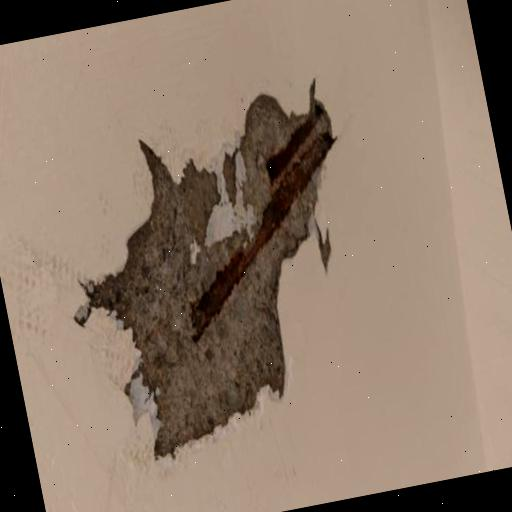spalling: (76, 80, 341, 471)
